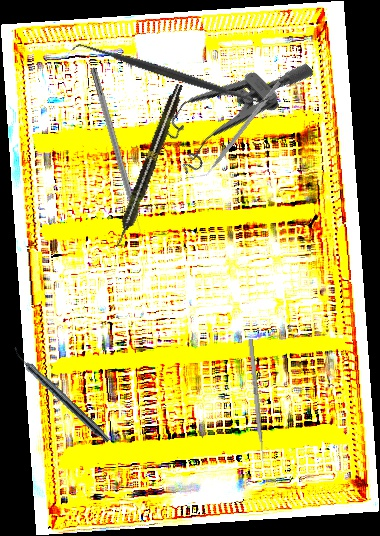Chopper: (194, 76, 282, 183)
Handpiece: (110, 82, 187, 250), (8, 345, 114, 445)
Hook Surgical: (88, 66, 147, 243)
Pusher: (247, 338, 267, 469)
Spatula Surgical: (69, 30, 274, 117)
Speculum: (148, 21, 315, 186)
